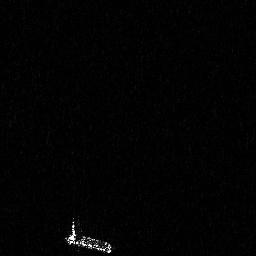ship: (64, 215, 115, 256)
